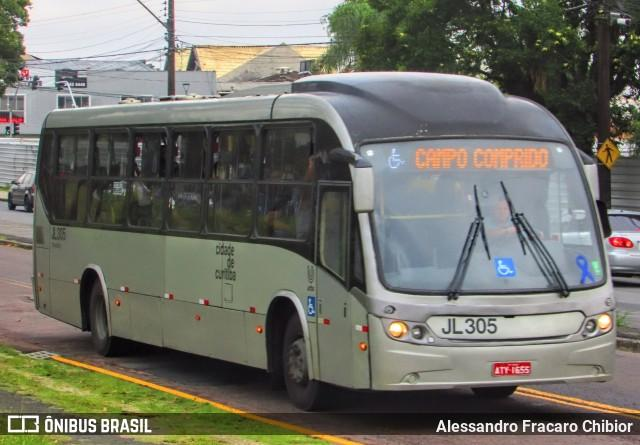CAMPO COMPRIDO: (409, 145, 552, 172)
